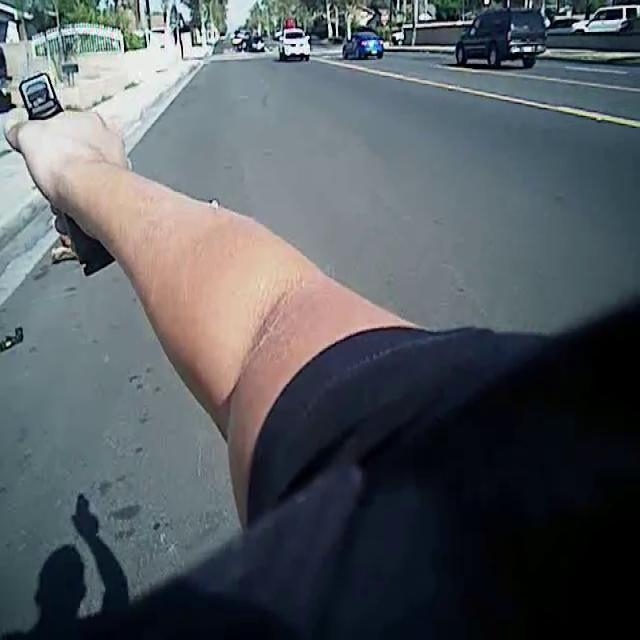gun: (3, 58, 158, 299)
